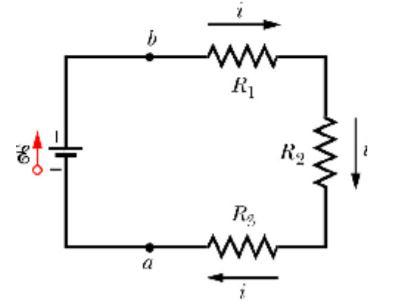Battery: (51, 121, 99, 176)
